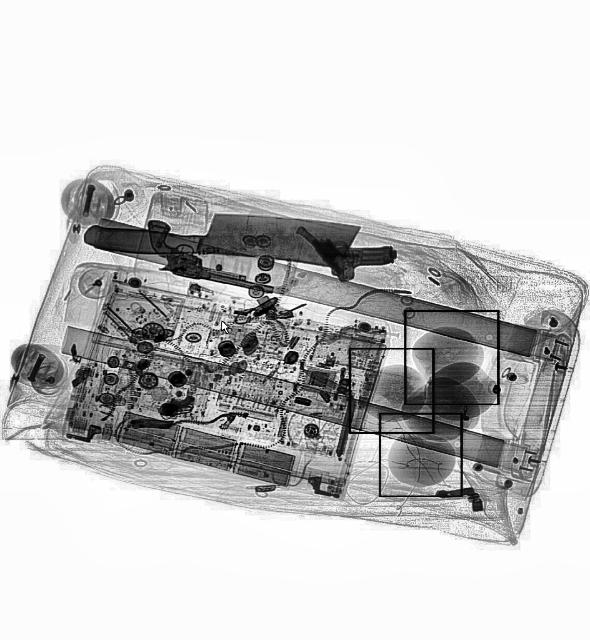Gun: (137, 217, 281, 299), (294, 190, 398, 296)
Knife: (82, 199, 360, 273)
